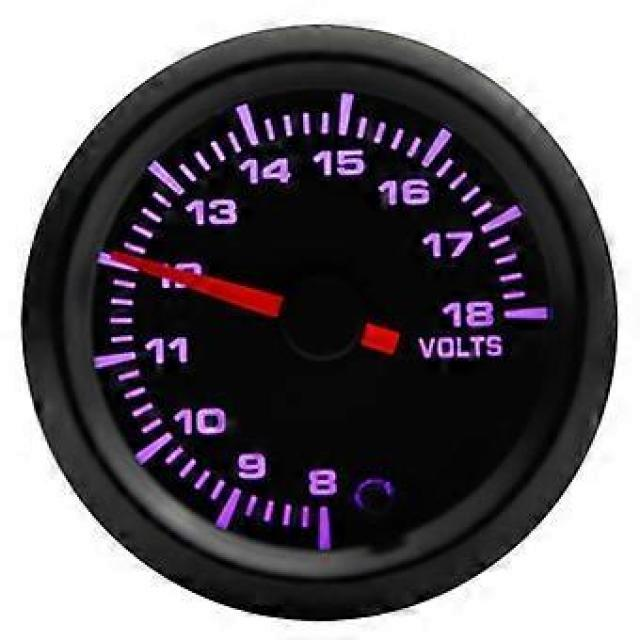Needle_Tip: (98, 237, 140, 283)
Needle_base: (284, 269, 366, 356)
max_value: (448, 287, 503, 339)
min_value: (295, 455, 347, 521)
